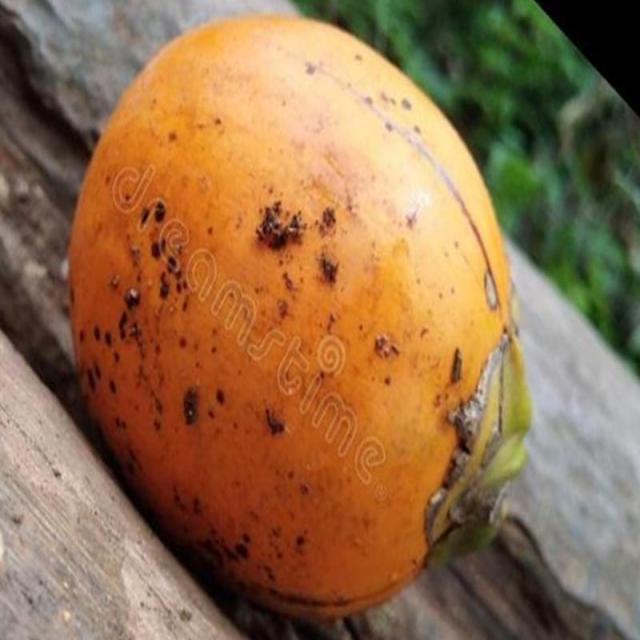good: (67, 13, 535, 629)
